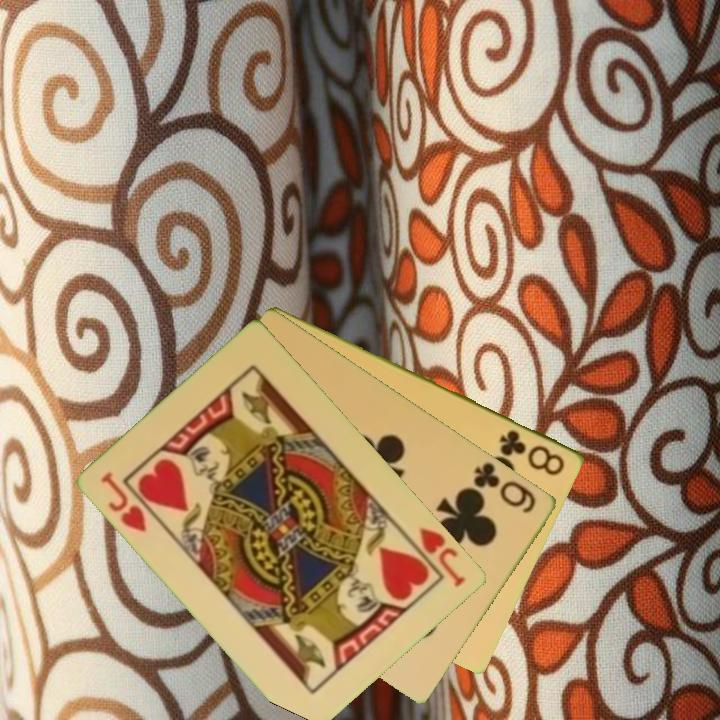6c: (470, 458, 540, 517)
8c: (496, 426, 568, 479)
Jh: (98, 468, 151, 536), (416, 523, 469, 590)
